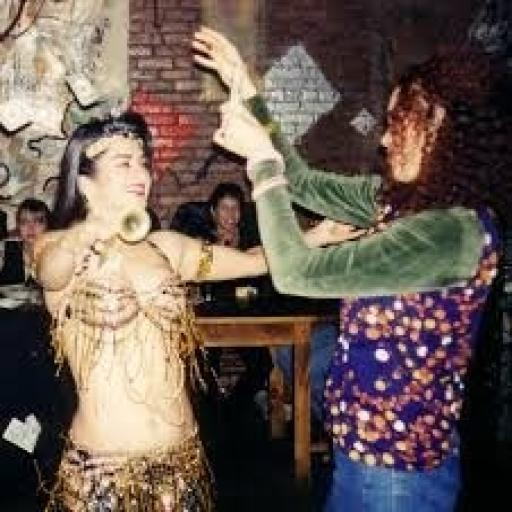dancing: (186, 20, 507, 510), (25, 108, 272, 510)
